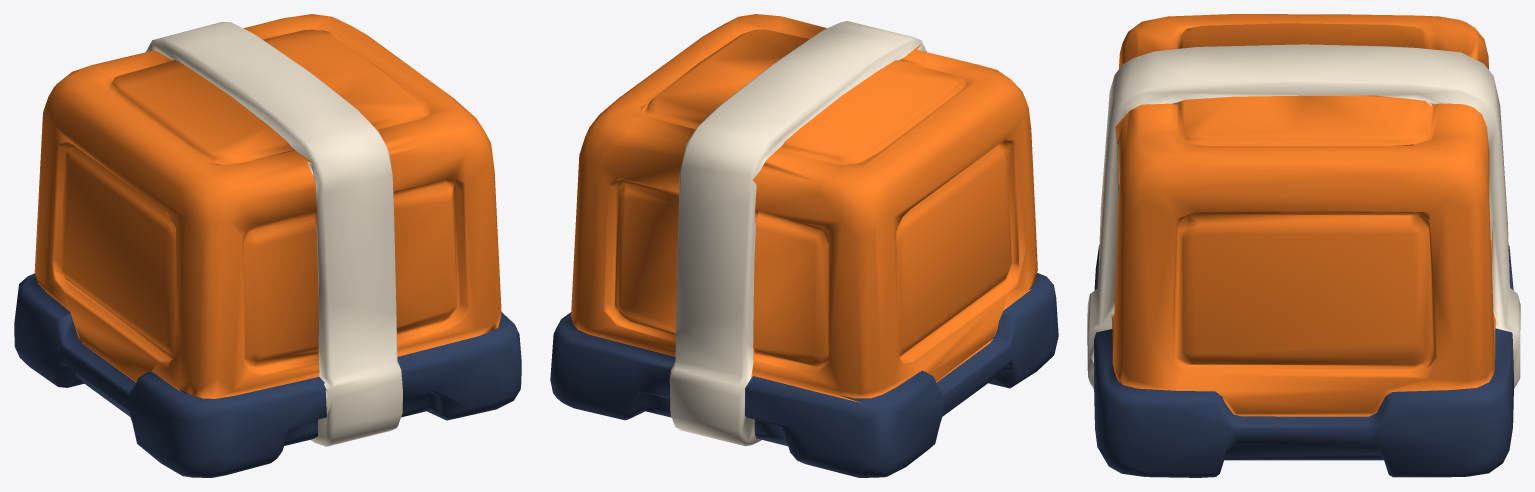
The model's file is cargo-crate.glb.
3 views of the same model, side by side, from view 1: azimuth 30°, elevation 25°; view 2: azimuth 150°, elevation 25°; view 3: azimuth 270°, elevation 25° (orthographic). The views are drawn at different scales.
Visible parts, largest first — view 1: orange-cargo-crate_LOD0; view 2: orange-cargo-crate_LOD0; view 3: orange-cargo-crate_LOD0.
Part boxes in pixels (x1,y1,x2,y2): orange-cargo-crate_LOD0: [14, 14, 521, 477]; orange-cargo-crate_LOD0: [550, 14, 1058, 477]; orange-cargo-crate_LOD0: [1087, 14, 1520, 477].
Bounding box in the file's own units: 1.07 × 0.9001 × 1.07.
Materials: 1 (1 with a texture image).
